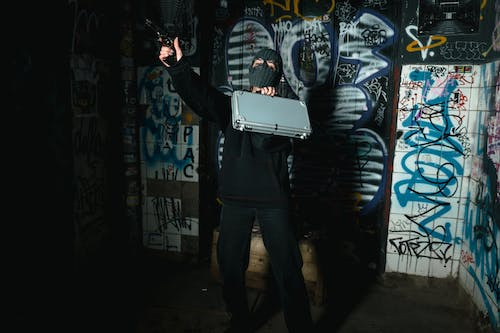gun: (144, 15, 186, 68)
